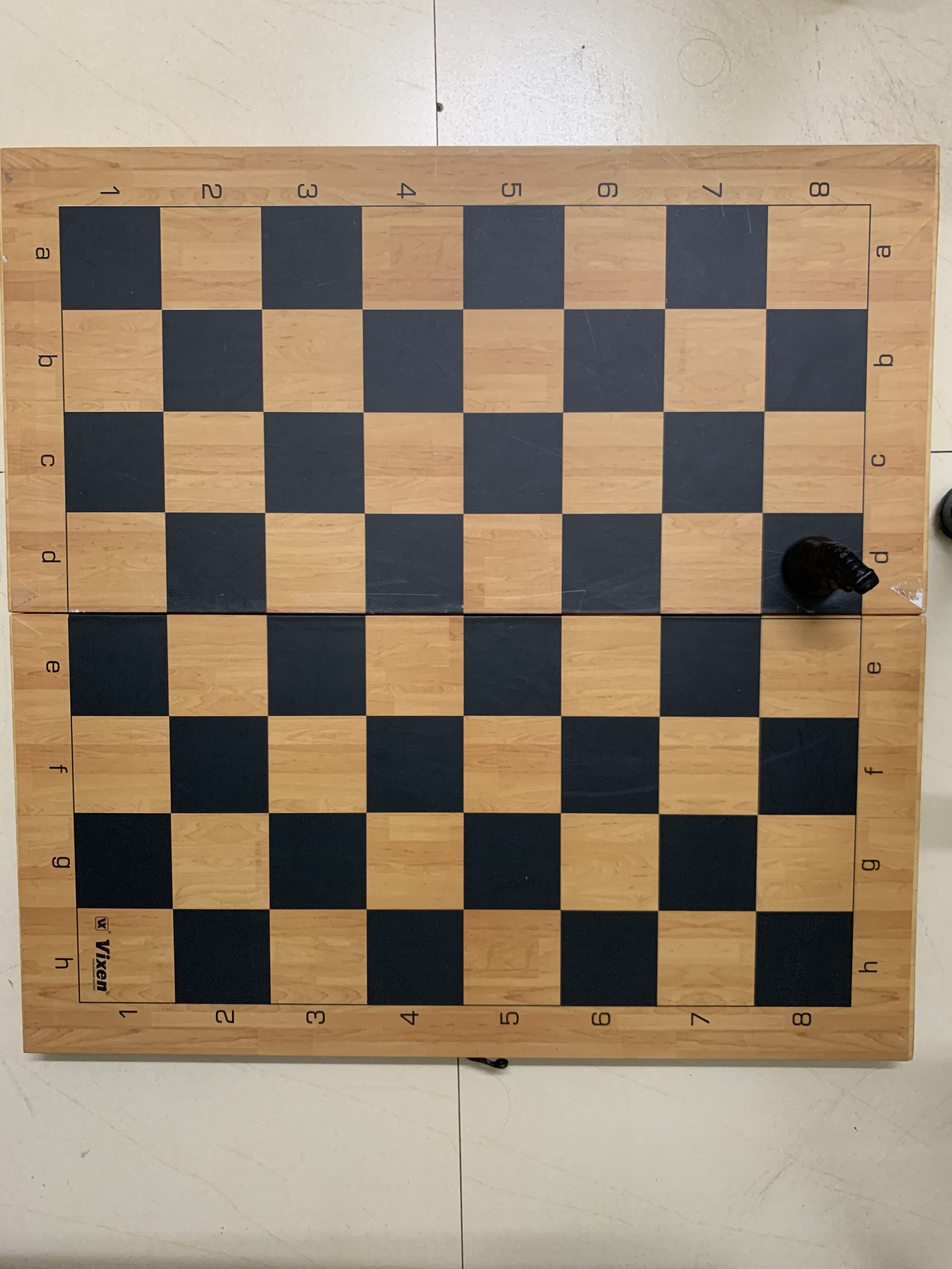black_knight: (767, 516, 878, 618)
